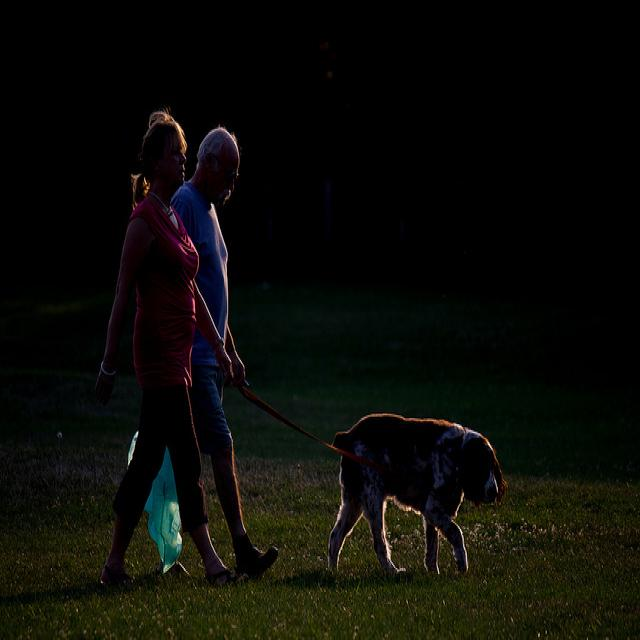Dog: (268, 346, 528, 626)
